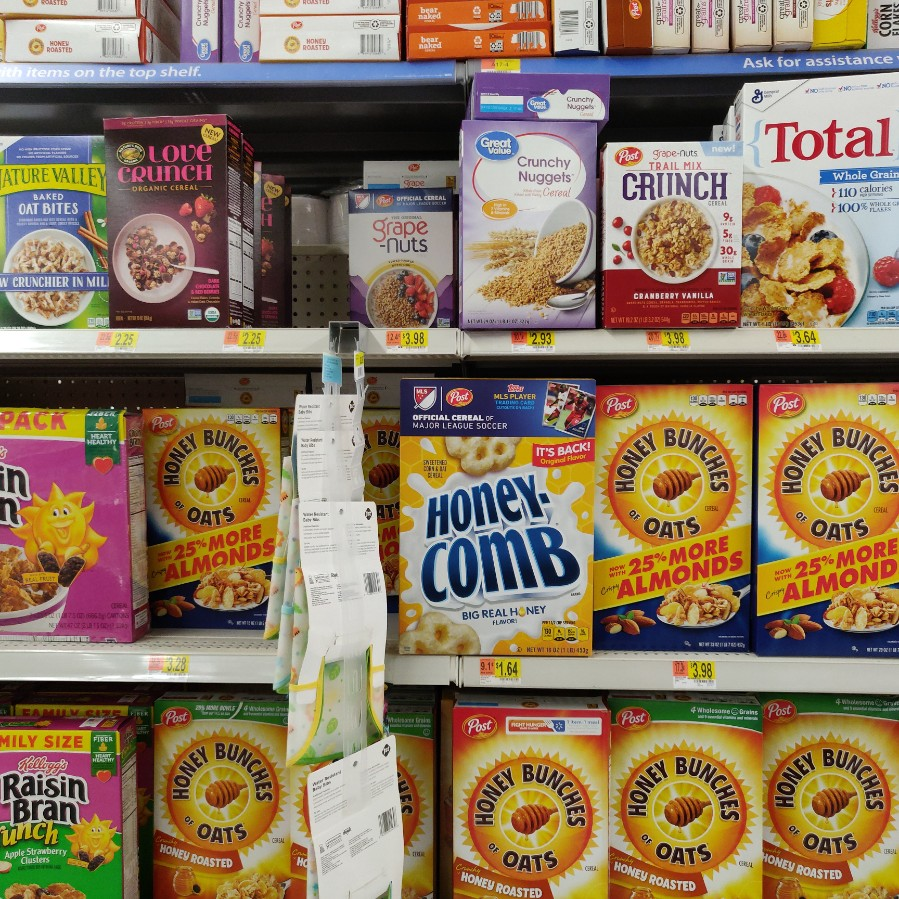Honey Comb- 009288857: (396, 377, 600, 654)
